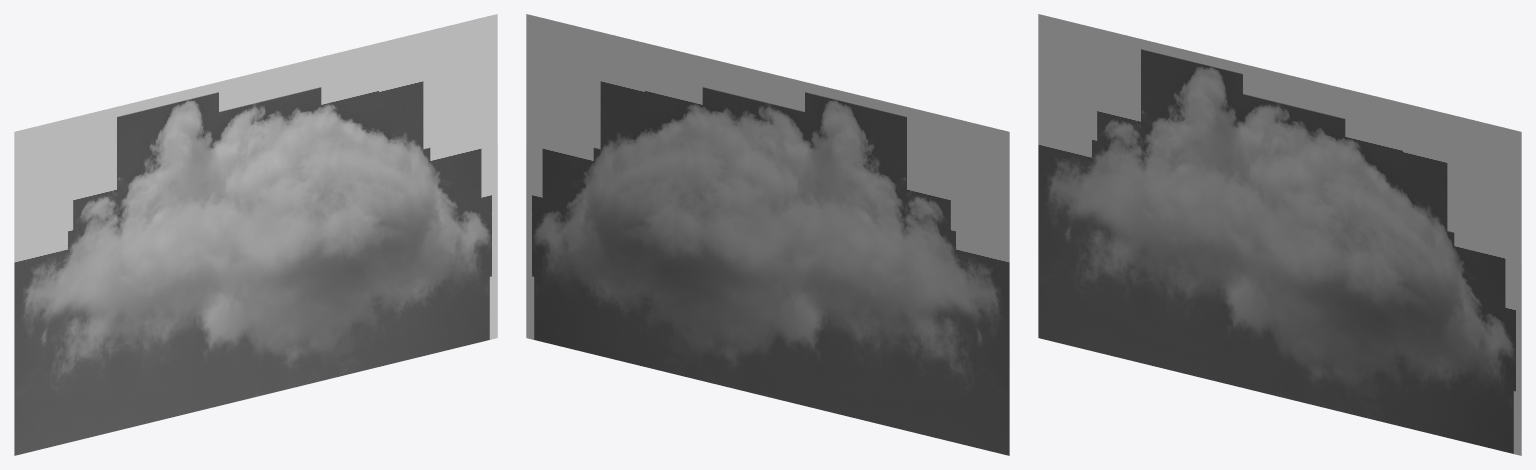
The model's file is Cloud_04.fbx.
The picture shows the model from 3 angles, left to right: view 1: azimuth 30°, elevation 25°; view 2: azimuth 150°, elevation 25°; view 3: azimuth 330°, elevation 25°; orthographic projection.
Parts seen in each view (by area): view 1: pPlane4; view 2: pPlane4; view 3: pPlane4.
Boxes of the visible parts, x1,y1,x2,y2 form: pPlane4: [14, 14, 497, 455]; pPlane4: [526, 14, 1009, 455]; pPlane4: [1038, 14, 1521, 455].
Bounding box in the file's own units: 21.96 × 14.08 × 8.62e-16.
Materials: 1 (1 with a texture image).
